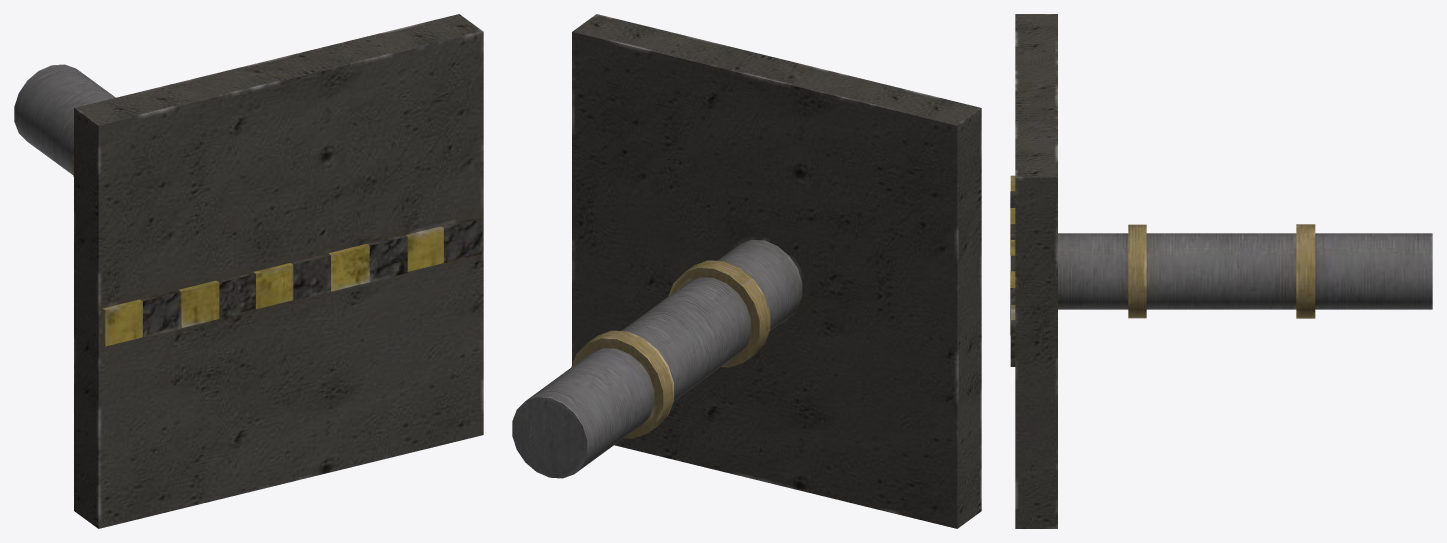
Rendered from fePistonHead.glb.
3 views of the same model, side by side, from view 1: azimuth 30°, elevation 25°; view 2: azimuth 150°, elevation 25°; view 3: azimuth 270°, elevation 25° (orthographic). The views are drawn at different scales.
Parts seen in each view (by area): view 1: fePistonHead_Base; view 2: fePistonHead_Base; view 3: fePistonHead_Base.
Boxes of the visible parts, x1,y1,x2,y2 form: fePistonHead_Base: [14, 14, 483, 528]; fePistonHead_Base: [512, 14, 981, 528]; fePistonHead_Base: [1010, 14, 1432, 528].
Size of the model in its own units: 0.9212 by 0.9212 by 1.
Materials: 1 (1 with a texture image).
